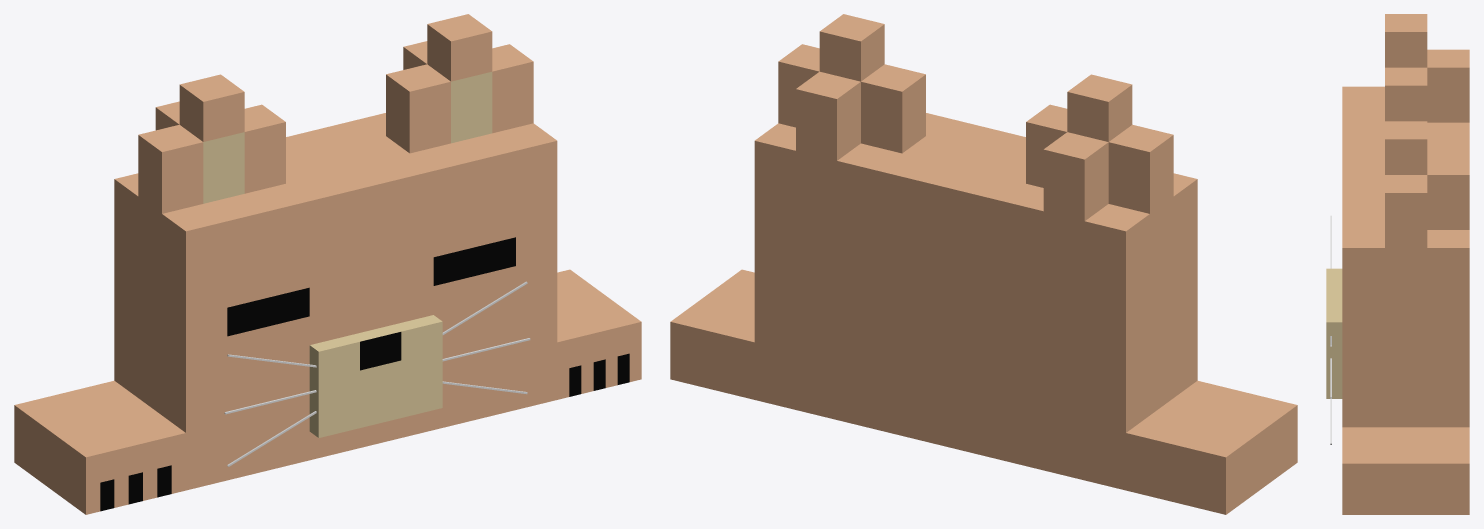
The model's file is catHead.fbx.
3 renders of one model, left to right at view 1: azimuth 30°, elevation 25°; view 2: azimuth 150°, elevation 25°; view 3: azimuth 270°, elevation 25°, orthographic. The views are drawn at different scales.
Parts seen in each view (by area): view 1: head, Cube; view 2: head; view 3: head, Cube.
Boxes of the visible parts, x1,y1,x2,y2 form: head: [14, 14, 641, 514]; Cube: [224, 281, 530, 466]; head: [670, 14, 1297, 514]; head: [1326, 14, 1469, 514]; Cube: [1330, 215, 1331, 444].
Size of the model in its own units: 449 by 279 by 113.
